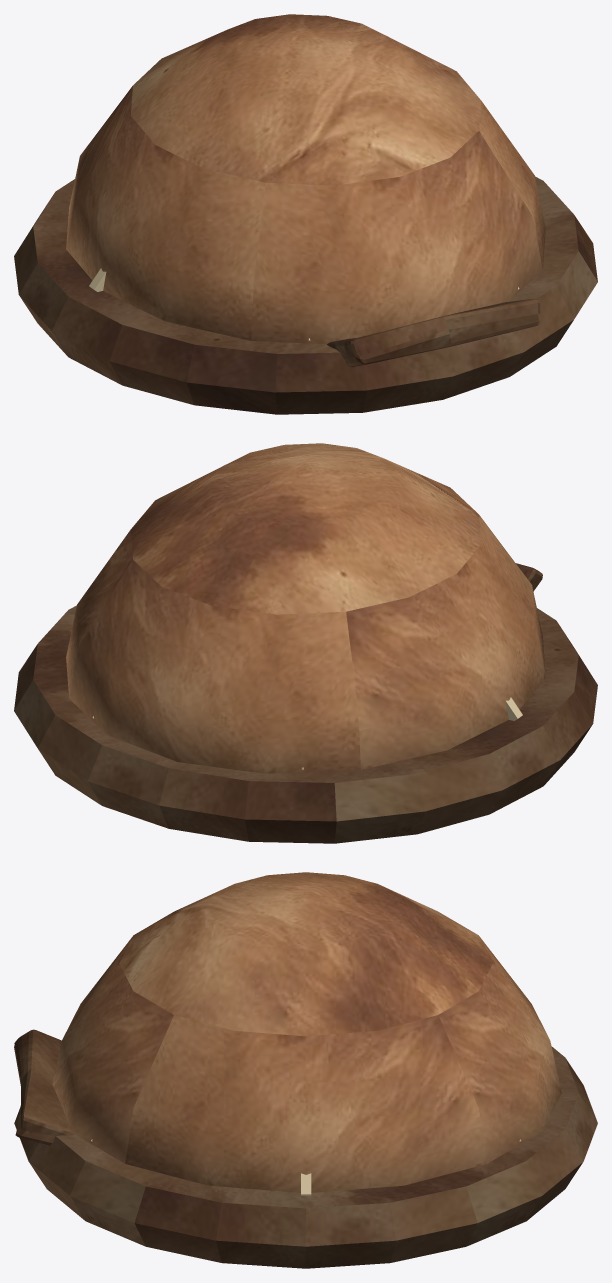
File: cap_leather.glb
3 views of the same model, one above another, from view 1: azimuth 30°, elevation 25°; view 2: azimuth 150°, elevation 25°; view 3: azimuth 270°, elevation 25° (orthographic).
Parts seen in each view (by area): view 1: model; view 2: model; view 3: model.
Boxes of the visible parts, x1=… form: model: x1=14, y1=14, x2=597, y2=414; model: x1=14, y1=443, x2=597, y2=843; model: x1=14, y1=872, x2=597, y2=1268.
Bounding box in the file's own units: 0.334 × 0.1641 × 0.3341.
Materials: 3 (2 with a texture image).
